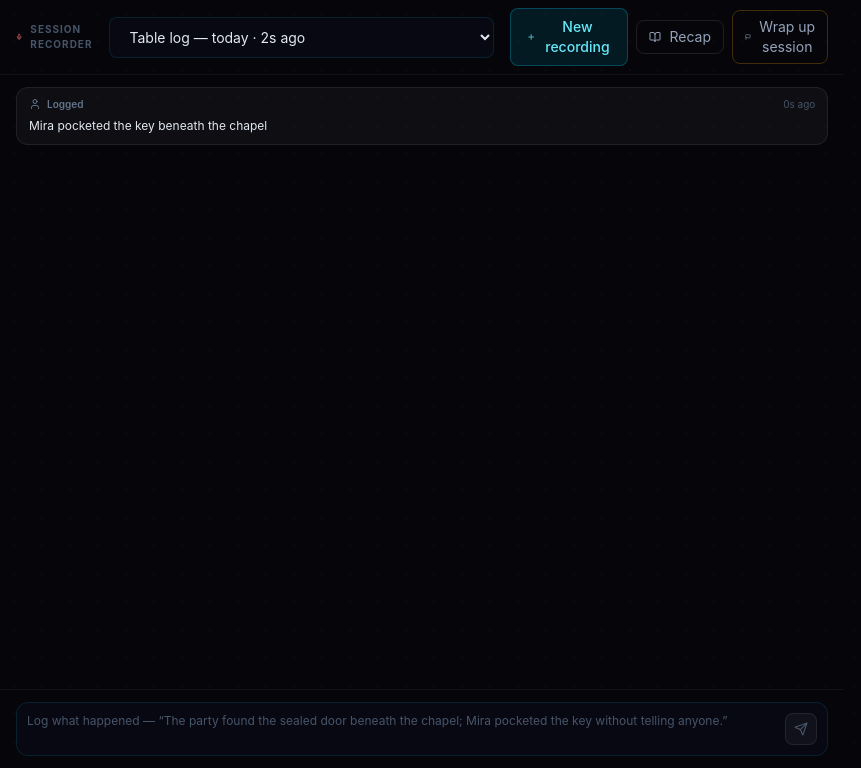
Test case: SessionRecorder per-entry capture insights (P1.2) › renders participant/location chips and candidate facts under the entry
Type "Mira pocketed the key beneath the chapel" into the text box with placeholder "Log what happened" at (402, 729), box x1=27 y1=713 x2=777 y2=745
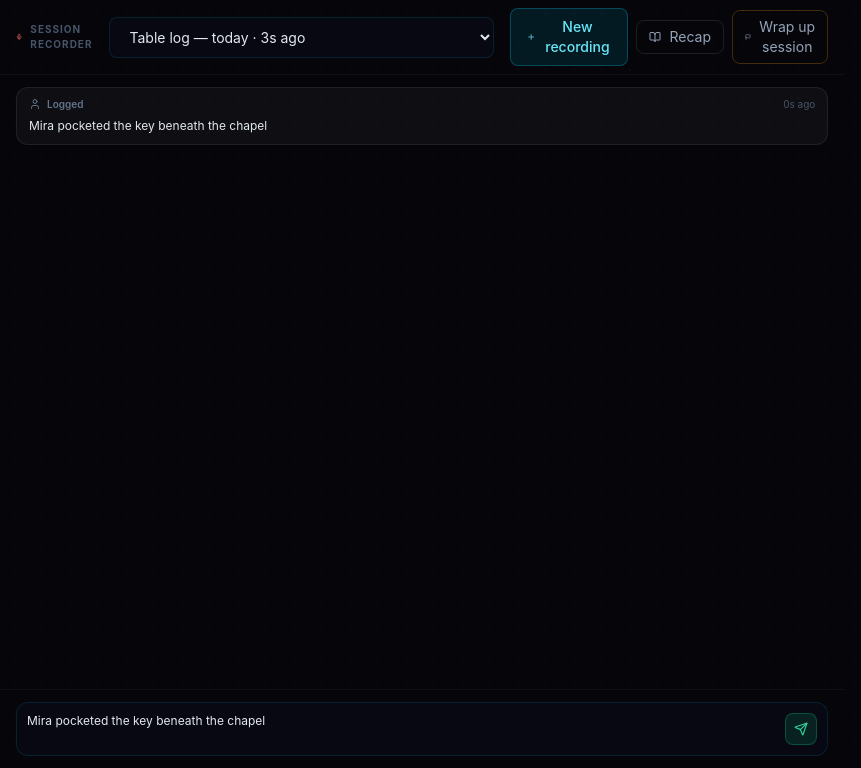
Click the button named "Log entry" at (801, 729), box x1=785 y1=713 x2=817 y2=745
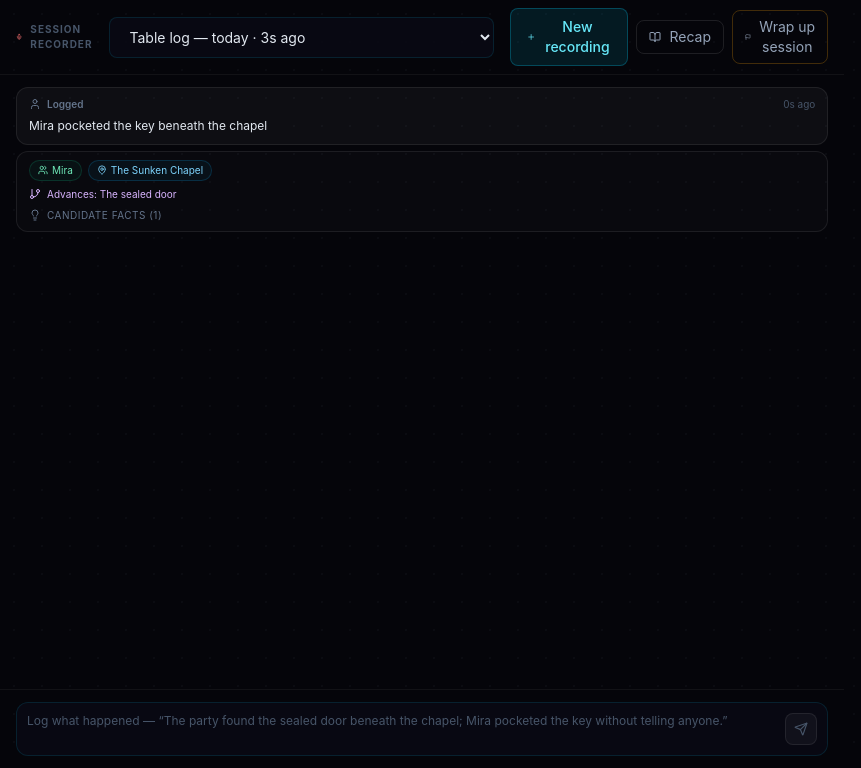
Expected: the element with test id "capture-insights" shows "Mira", x1=52 y1=164 x2=73 y2=176
Expected: the element with test id "capture-insights" shows "The Sunken Chapel", x1=111 y1=164 x2=203 y2=176
Expected: the element with test id "capture-insights" shows "Candidate facts", x1=47 y1=209 x2=153 y2=221
